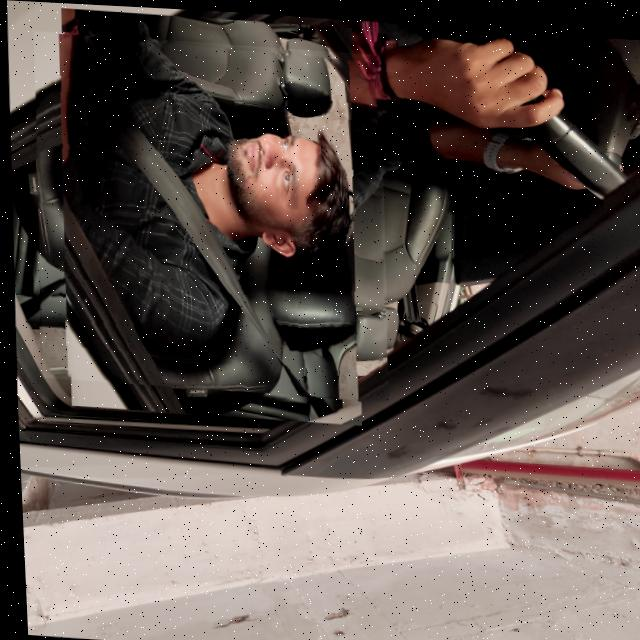seatbelt: (26, 29, 390, 396)
